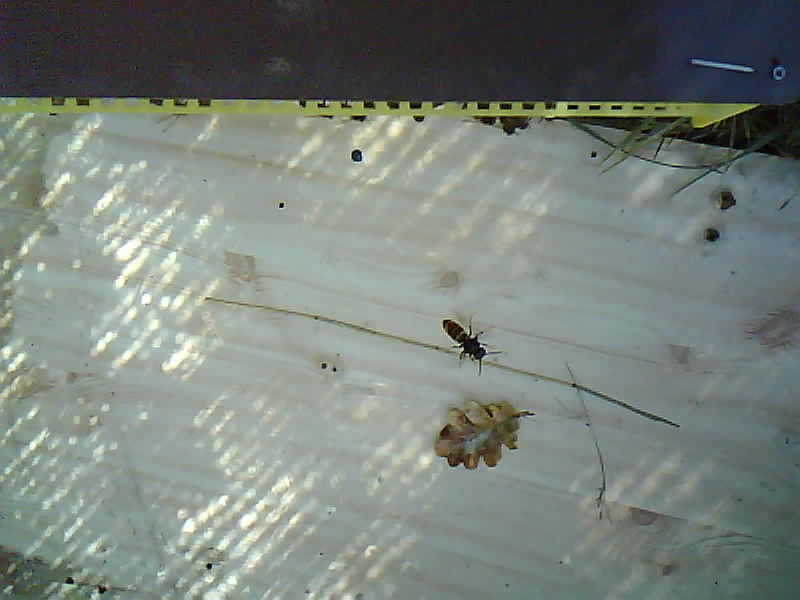hornet: (436, 314, 496, 363)
